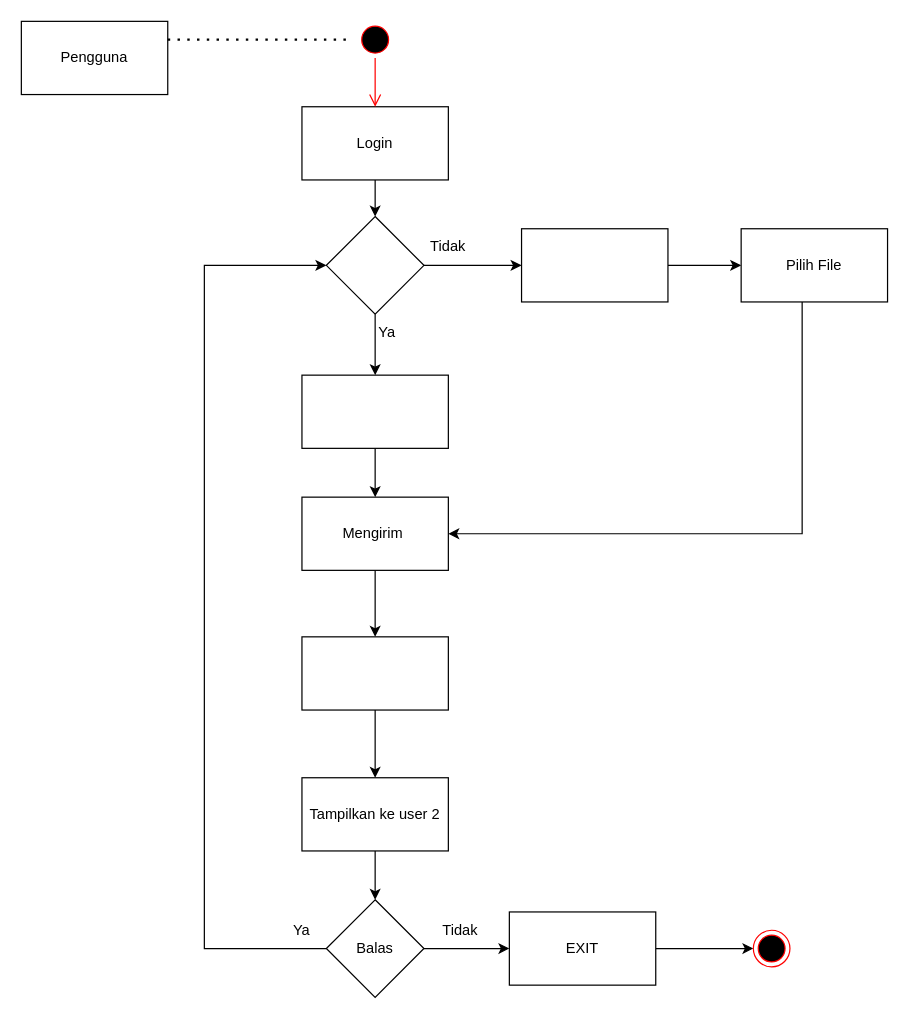
Some shapes in this 909 by 1019 pixel diagram are drawn without their labels. Each missing label, with the centre of its shape:
File: the point at 594,265
Menulis Pesan: the point at 374,411
Pesan: the point at 374,264
Terkirim: the point at 374,673
